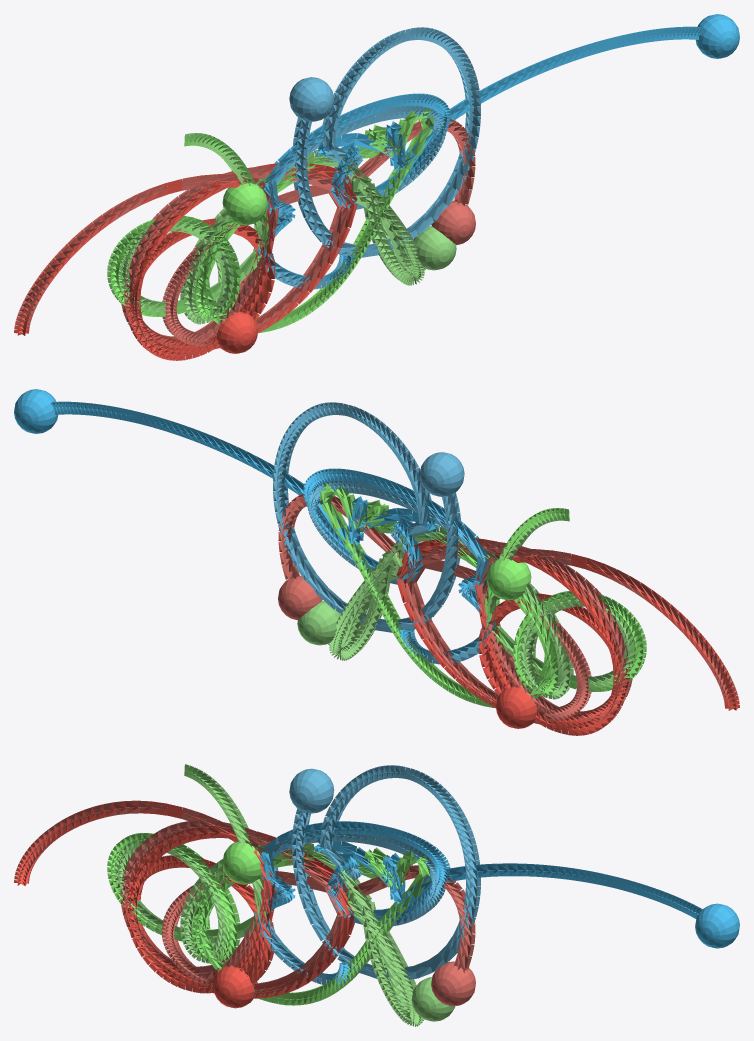
The picture shows the model from 3 angles, top to bottom: view 1: azimuth 30°, elevation 25°; view 2: azimuth 150°, elevation 25°; view 3: azimuth 330°, elevation 25°; orthographic projection.
Visible parts, largest first — view 1: nbody_divergence; view 2: nbody_divergence; view 3: nbody_divergence.
Boxes of the visible parts, box(x1,y1,x2,y2) form: nbody_divergence: box(14, 14, 739, 360); nbody_divergence: box(14, 389, 739, 735); nbody_divergence: box(14, 764, 739, 1026).
Size of the model in its own units: 4.43 by 1.65 by 0.24.
